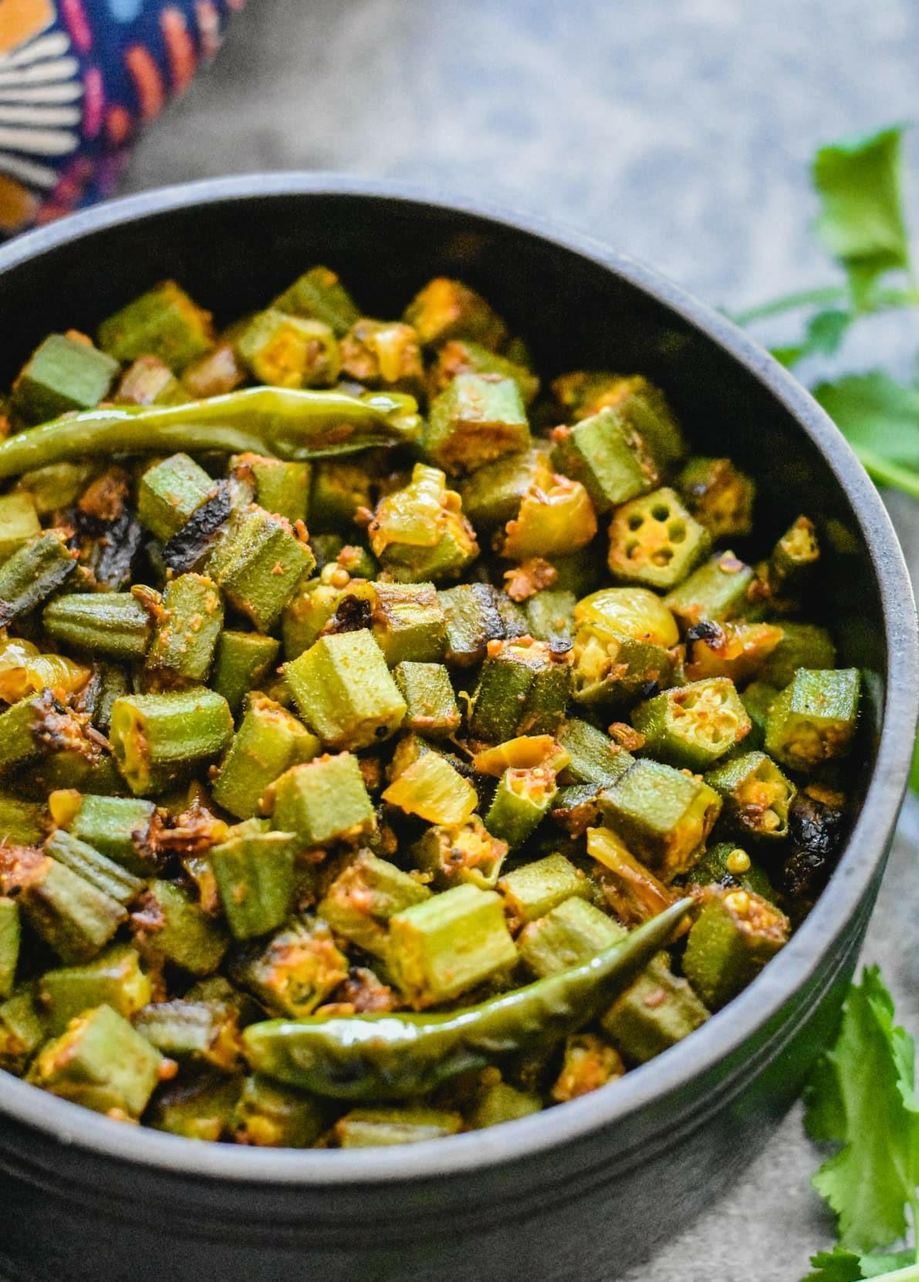BhindiMasala: (0, 269, 868, 1153)
